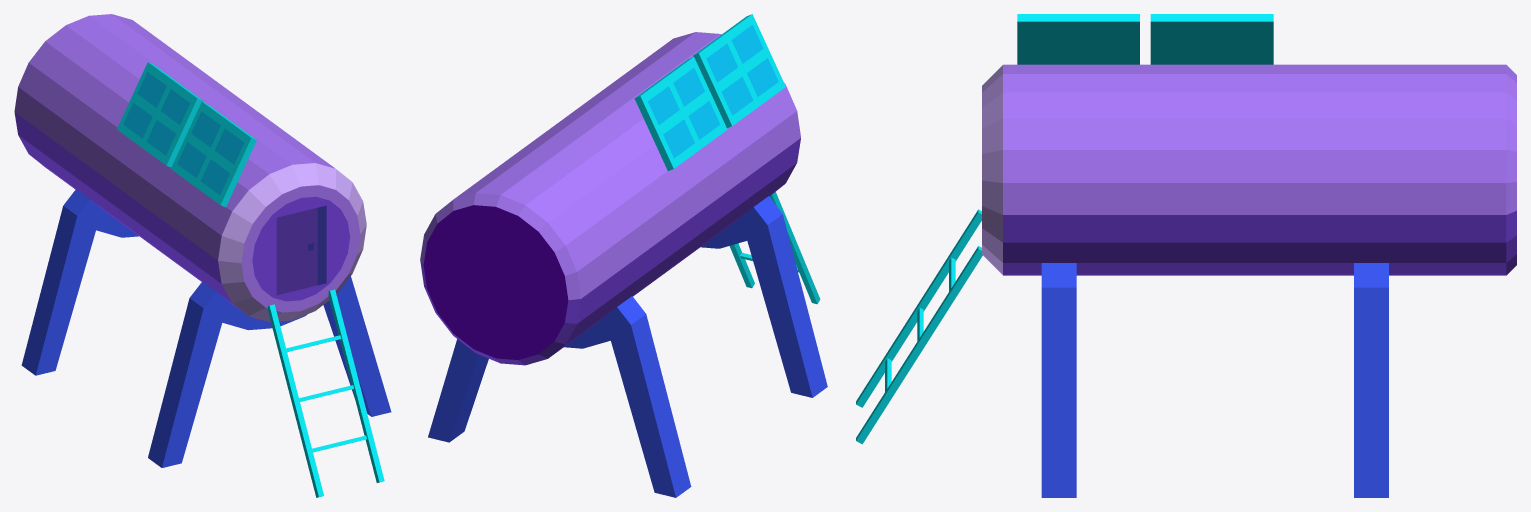
The model's file is Building_014_b.fbx.
3 renders of one model, left to right at view 1: azimuth 30°, elevation 25°; view 2: azimuth 150°, elevation 25°; view 3: azimuth 270°, elevation 25°, orthographic. The views are drawn at different scales.
Parts seen in each view (by area): view 1: Building_014_b_h; view 2: Building_014_b_h; view 3: Building_014_b_h.
Boxes of the visible parts, <box> form: Building_014_b_h: <box>14,14,391,497</box>; Building_014_b_h: <box>420,14,827,497</box>; Building_014_b_h: <box>856,14,1516,497</box>.
Bounding box in the file's own units: 8.79 × 11.64 × 17.72.
